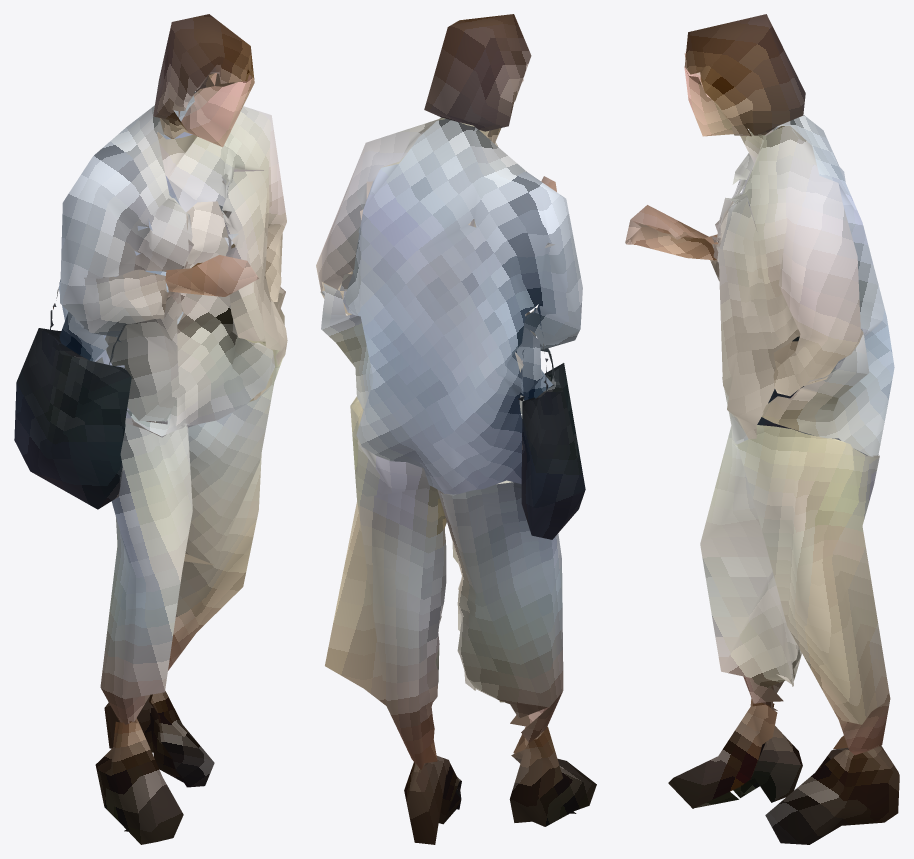
3 renders of one model, left to right at view 1: azimuth 30°, elevation 25°; view 2: azimuth 150°, elevation 25°; view 3: azimuth 270°, elevation 25°, orthographic. The views are drawn at different scales.
Visible parts, largest first — view 1: Object_3.003; view 2: Object_3.003; view 3: Object_3.003.
Boxes of the visible parts, x1,y1,x2,y2 form: Object_3.003: (14, 14, 287, 844); Object_3.003: (316, 14, 596, 844); Object_3.003: (625, 14, 899, 844).
Size of the model in its own units: 0.5766 by 1.7 by 0.5216.
1 material, 1 textured.
